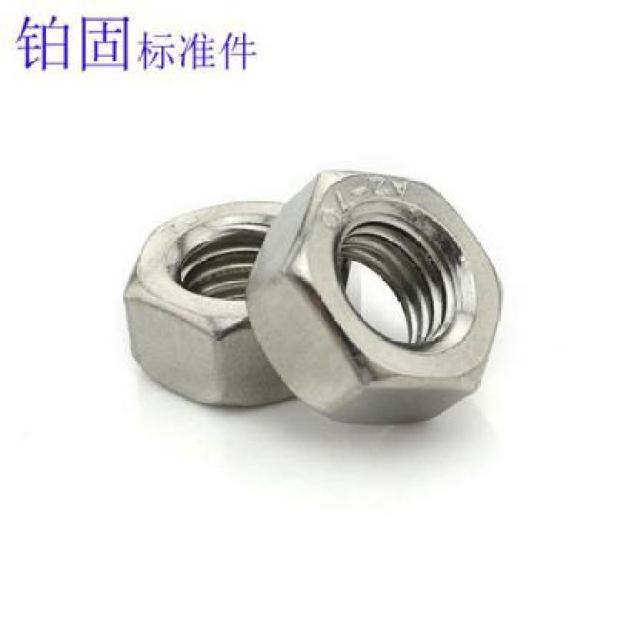Nut: (243, 166, 504, 425), (125, 197, 357, 411)
